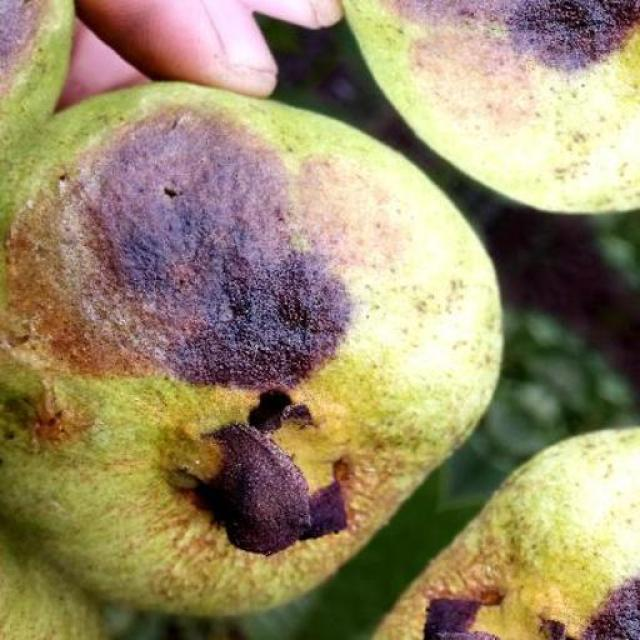Styler_Root: (0, 84, 501, 613), (345, 0, 640, 212), (372, 428, 640, 639)
